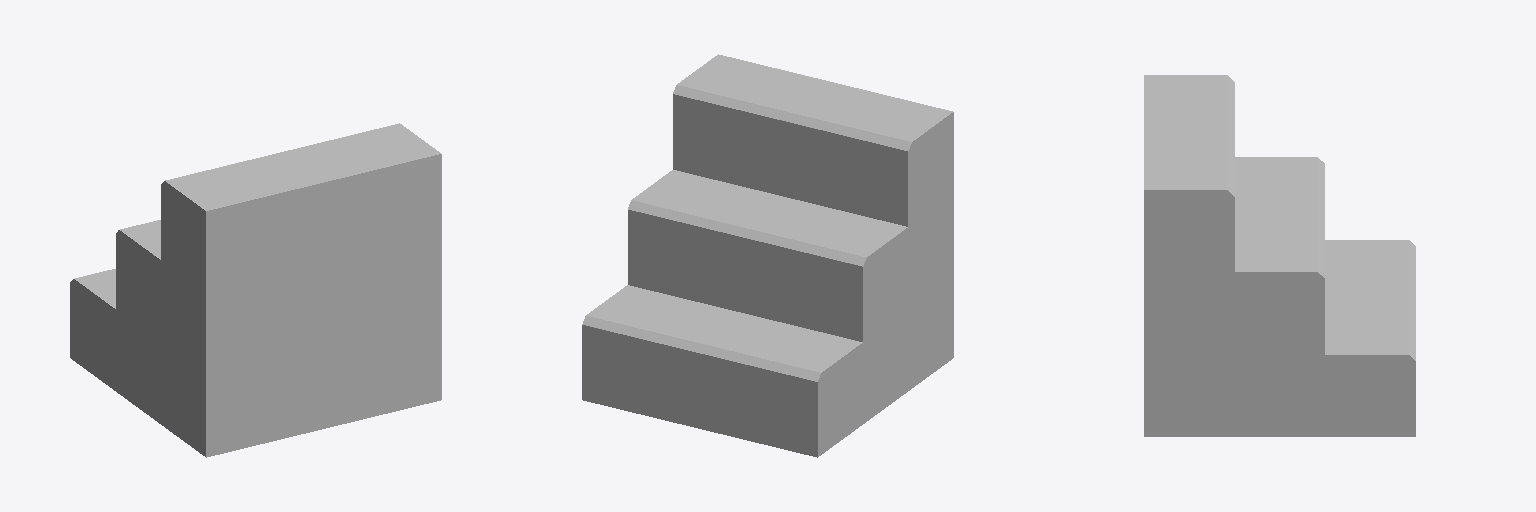
The model's file is aspen_stair_fancy.obj.
3 renders of one model, left to right at view 1: azimuth 30°, elevation 25°; view 2: azimuth 150°, elevation 25°; view 3: azimuth 270°, elevation 25°, orthographic.
Visible parts, largest first — view 1: Cube; view 2: Cube; view 3: Cube.
Boxes of the visible parts, x1,y1,x2,y2 form: Cube: [70, 123, 441, 457]; Cube: [582, 54, 953, 457]; Cube: [1144, 75, 1415, 436].
Size of the model in its own units: 1 by 1 by 1.